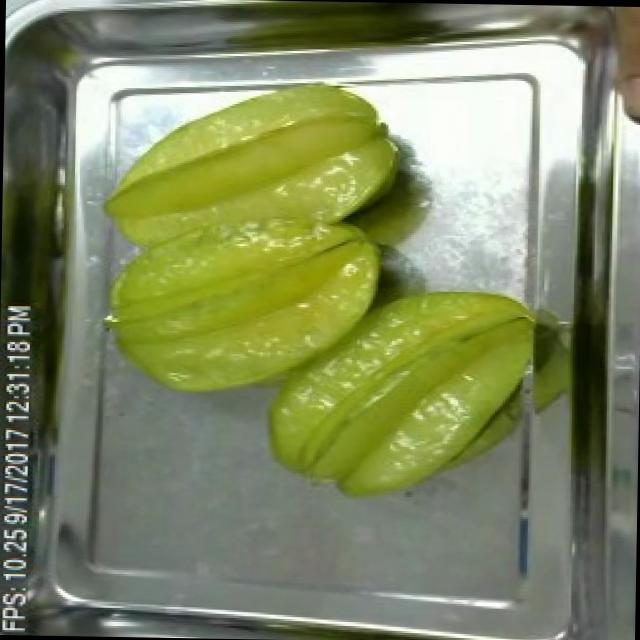fruit: (83, 61, 409, 418), (254, 275, 554, 514)
